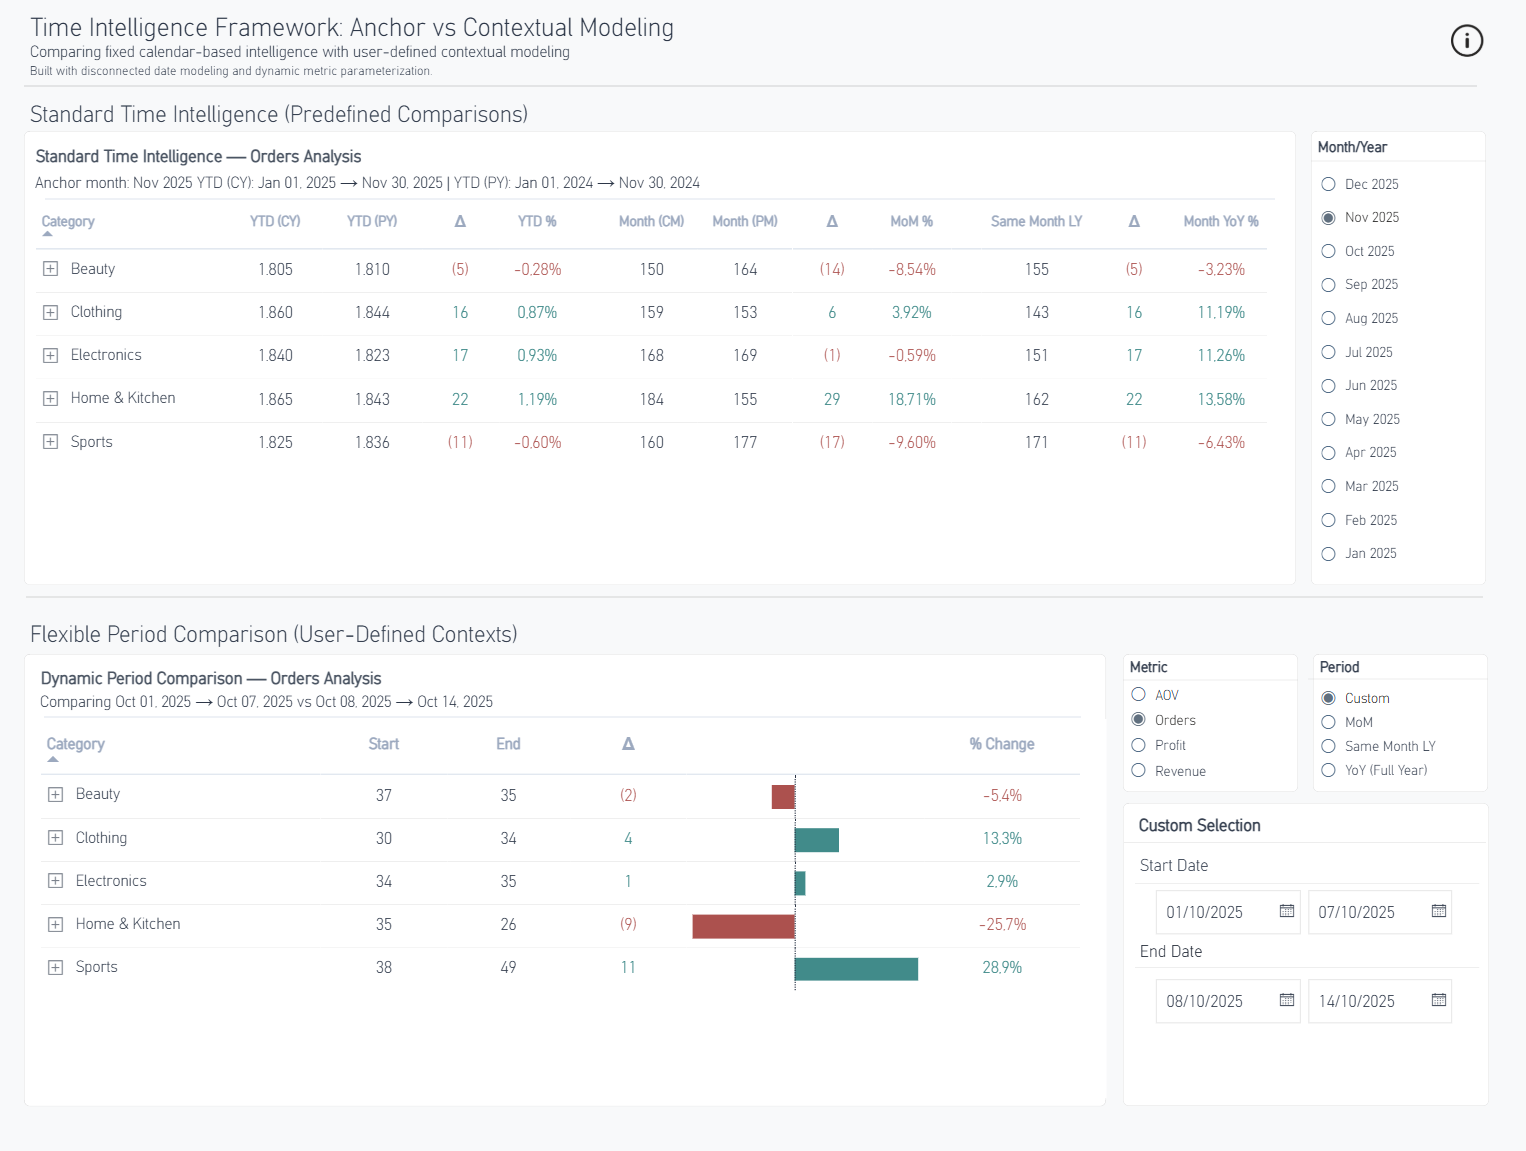

What the dashboard file says about the page in this screenshot:
{"tool":"powerbi","page":{"name":"Framework","canvas":[1280,1000],"ordinal":0},"visuals":[{"type":"shape","box":[25.8,113.9,1060,378.3],"z":0,"group":"g6"},{"type":"shape","box":[1098.3,114.2,145.8,378.3],"z":0},{"type":"shape","box":[25.8,550,901.7,377],"z":0,"group":"g1"},{"type":"pivotTable","fields":{"Rows":["fSales.Product_Category","fSales.Region"],"Values":["__Measures.Metric Current Year","__Measures.Metric Previous Year","__Measures.Δ YTD","__Measures.YTD %","__Measures.Spacer","__Measures.Metric Current (Month)","__Measures.Metric Previous Month","__Measures.Metric Δ MoM","__Measures.Metric MoM %","__Measures.Spacer","__Measures.Metric LY (Same Month)","__Measures.Metric Δ YoY"]},"box":[30.9,168.9,1045,316.7],"z":1000,"group":"g6"},{"type":"shape","box":[1100,550,145.8,115],"z":1000},{"type":"pivotTable","fields":{"Rows":["fSales.Product_Category","fSales.Region"],"Values":["__Measures.Start Date Metric Value","__Measures.End Date Metric Value","__Measures.Metric Var Abs","__Measures.Metric Var Abs (Data Bar)","__Measures.Metric Var %"]},"box":[34.8,604,893,316],"z":1000,"group":"g1"},{"type":"slicer","fields":{"Values":["_Start Date.Start Date"]},"box":[945,736.7,287.8,51.6],"z":1000,"group":"g3"},{"type":"slicer","fields":{"Values":["_End Date.End Date"]},"box":[945.4,812.8,288.2,50.8],"z":1000,"group":"g4"},{"type":"shape","box":[941.7,550,145.8,115],"z":2000},{"type":"listSlicer","fields":{"Values":["Metric.Metric"]},"box":[942.5,572.2,145.8,92],"z":3000},{"type":"cardVisual","fields":{"Data":["__Measures.Standard Subtitle"]},"box":[35.1,133.2,595,44.2],"z":4000,"group":"g6"},{"type":"cardVisual","fields":{"Data":["__Measures.Comparison Subtitle (Corp)"]},"box":[39.1,563.3,678.3,50.8],"z":4000,"group":"g1"},{"type":"shape","box":[941.7,674.2,305,252.5],"z":4000},{"type":"group","id":"g1","title":"Grupo 1","box":[25.8,550,902,377],"z":5000},{"type":"textbox","box":[25.8,10.2,768.3,39.2],"z":6000},{"type":"cardVisual","fields":{"Data":["__Measures.Standard Title"]},"box":[30.9,114.7,438.3,37.5],"z":6000,"group":"g6"},{"type":"cardVisual","fields":{"Data":["__Measures.Dynamic Title"]},"box":[34.7,550,566.7,37.2],"z":6000,"group":"g1"},{"type":"shape","box":[25.8,65,1215.8,23.3],"z":7000},{"type":"textbox","box":[25.8,83.3,425.8,39.2],"z":8000},{"type":"shape","box":[27.5,490.8,1214.2,23.3],"z":9000},{"type":"textbox","box":[25.8,516.8,636.7,39.2],"z":10000},{"type":"group","id":"g2","title":"Group 2","box":[945,712.6,293.7,75.6],"z":11000},{"type":"textbox","box":[951,712.6,123.6,38.1],"z":11000,"group":"g3"},{"type":"textbox","box":[951.4,786.5,123.6,33],"z":11000,"group":"g4"},{"type":"listSlicer","fields":{"Values":["_Periods.Period Label"]},"box":[1100.8,571.7,145.8,92.5],"z":12000},{"type":"shape","box":[951.7,735,287.1,12.3],"z":12000,"group":"g3"},{"type":"shape","box":[952.1,807.9,287.1,10.7],"z":12000,"group":"g4"},{"type":"group","id":"g3","title":"Group 1","box":[945,712.6,293.7,75.6],"z":12001,"group":"g2"},{"type":"group","id":"g4","title":"Group 1","box":[945.4,786.5,293.7,77.1],"z":12001,"group":"g5"},{"type":"shape","box":[942.5,700.8,301.7,12.5],"z":13000},{"type":"group","id":"g5","title":"Group 2","box":[945.4,786.5,293.7,77.1],"z":14000},{"type":"textbox","box":[950,679.2,229.2,39.2],"z":15000},{"type":"shape","box":[42.5,597.5,864,10],"z":16000},{"type":"shape","box":[941.7,565,145.8,13.3],"z":17000},{"type":"listSlicer","fields":{"Values":["_dimCalendar.Month Year"]},"box":[1100.8,139.2,140.8,346.7],"z":18000},{"type":"group","id":"g6","title":"Grupo 1","box":[25.8,113.9,1060,378.3],"z":19000},{"type":"textbox","box":[942.5,548.3,138.3,28.3],"z":20000},{"type":"shape","box":[1095.8,565,150,11.7],"z":21000},{"type":"textbox","box":[1100.8,548.3,138.3,28.3],"z":22000},{"type":"shape","box":[43.3,165.5,1025,10],"z":23000},{"type":"shape","box":[1098.3,133,145.8,11.7],"z":24000},{"type":"textbox","box":[1099.2,114.7,138.3,28.3],"z":25000},{"type":"textbox","box":[25.8,35.8,534.2,27.5],"z":26000},{"type":"actionButton","box":[1214.6,23.1,26.9,31.5],"z":27000},{"type":"textbox","box":[25.8,51.7,534.2,27.5],"z":28000},{"type":"cardVisual","fields":{"Data":["__Measures.Button Tooltip"]},"box":[1208,11,39,54],"z":30000}]}

Visuals, with their boxes on the page's 1280x1000 design canvas (x1, y1, x2, y2). These are canvas units, not pixel positions in the 1526x1151 screenshot, which may show the page scaled, cropped or inside an application window:
shape: [26, 114, 1086, 492]
shape: [1098, 114, 1244, 492]
shape: [26, 550, 928, 927]
pivotTable - fSales.Product_Category x fSales.Region: [31, 169, 1076, 486]
shape: [1100, 550, 1246, 665]
pivotTable - fSales.Product_Category x fSales.Region: [35, 604, 928, 920]
slicer - _Start Date.Start Date: [945, 737, 1233, 788]
slicer - _End Date.End Date: [945, 813, 1234, 864]
shape: [942, 550, 1088, 665]
listSlicer - Metric.Metric: [942, 572, 1088, 664]
cardVisual - __Measures.Standard Subtitle: [35, 133, 630, 177]
cardVisual - __Measures.Comparison Subtitle (Corp): [39, 563, 717, 614]
shape: [942, 674, 1247, 927]
"Grupo 1" group: [26, 550, 928, 927]
textbox: [26, 10, 794, 49]
cardVisual - __Measures.Standard Title: [31, 115, 469, 152]
cardVisual - __Measures.Dynamic Title: [35, 550, 601, 587]
shape: [26, 65, 1242, 88]
textbox: [26, 83, 452, 122]
shape: [28, 491, 1242, 514]
textbox: [26, 517, 662, 556]
"Group 2" group: [945, 713, 1239, 788]
textbox: [951, 713, 1075, 751]
textbox: [951, 786, 1075, 820]
listSlicer - _Periods.Period Label: [1101, 572, 1247, 664]
shape: [952, 735, 1239, 747]
shape: [952, 808, 1239, 819]
"Group 1" group: [945, 713, 1239, 788]
"Group 1" group: [945, 786, 1239, 864]
shape: [942, 701, 1244, 713]
"Group 2" group: [945, 786, 1239, 864]
textbox: [950, 679, 1179, 718]
shape: [42, 598, 906, 608]
shape: [942, 565, 1088, 578]
listSlicer - _dimCalendar.Month Year: [1101, 139, 1242, 486]
"Grupo 1" group: [26, 114, 1086, 492]
textbox: [942, 548, 1081, 577]
shape: [1096, 565, 1246, 577]
textbox: [1101, 548, 1239, 577]
shape: [43, 166, 1068, 176]
shape: [1098, 133, 1244, 145]
textbox: [1099, 115, 1238, 143]
textbox: [26, 36, 560, 63]
actionButton: [1215, 23, 1242, 55]
textbox: [26, 52, 560, 79]
cardVisual - __Measures.Button Tooltip: [1208, 11, 1247, 65]
